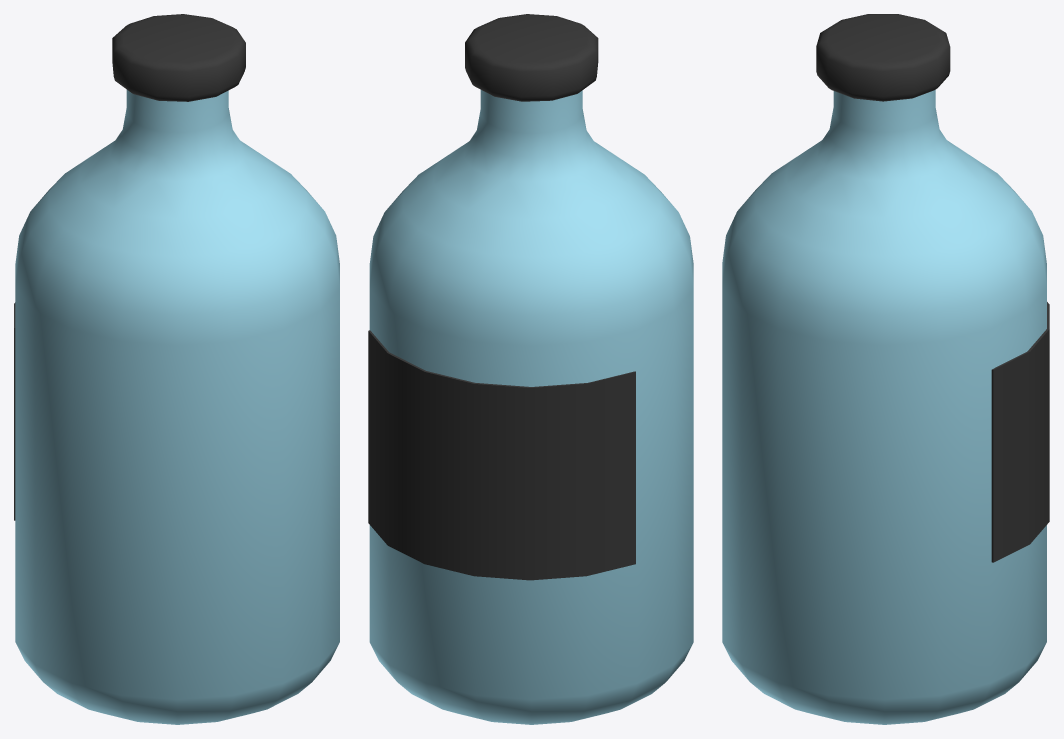
The model's file is SM_Bubble_02.FBX.
3 renders of one model, left to right at view 1: azimuth 30°, elevation 25°; view 2: azimuth 150°, elevation 25°; view 3: azimuth 270°, elevation 25°, orthographic.
Visible parts, largest first — view 1: SM_Bubble_02_LOD0; view 2: SM_Bubble_02_LOD0; view 3: SM_Bubble_02_LOD0.
Part boxes in pixels (x1,y1,x2,y2): SM_Bubble_02_LOD0: (14,14,339,724); SM_Bubble_02_LOD0: (368,14,693,724); SM_Bubble_02_LOD0: (722,14,1049,724).
Size of what is drawn, in the model's own units: 8.44 by 8.38 by 18.
